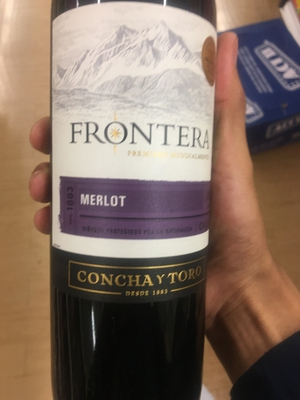frontera merlot: (44, 3, 233, 388)
